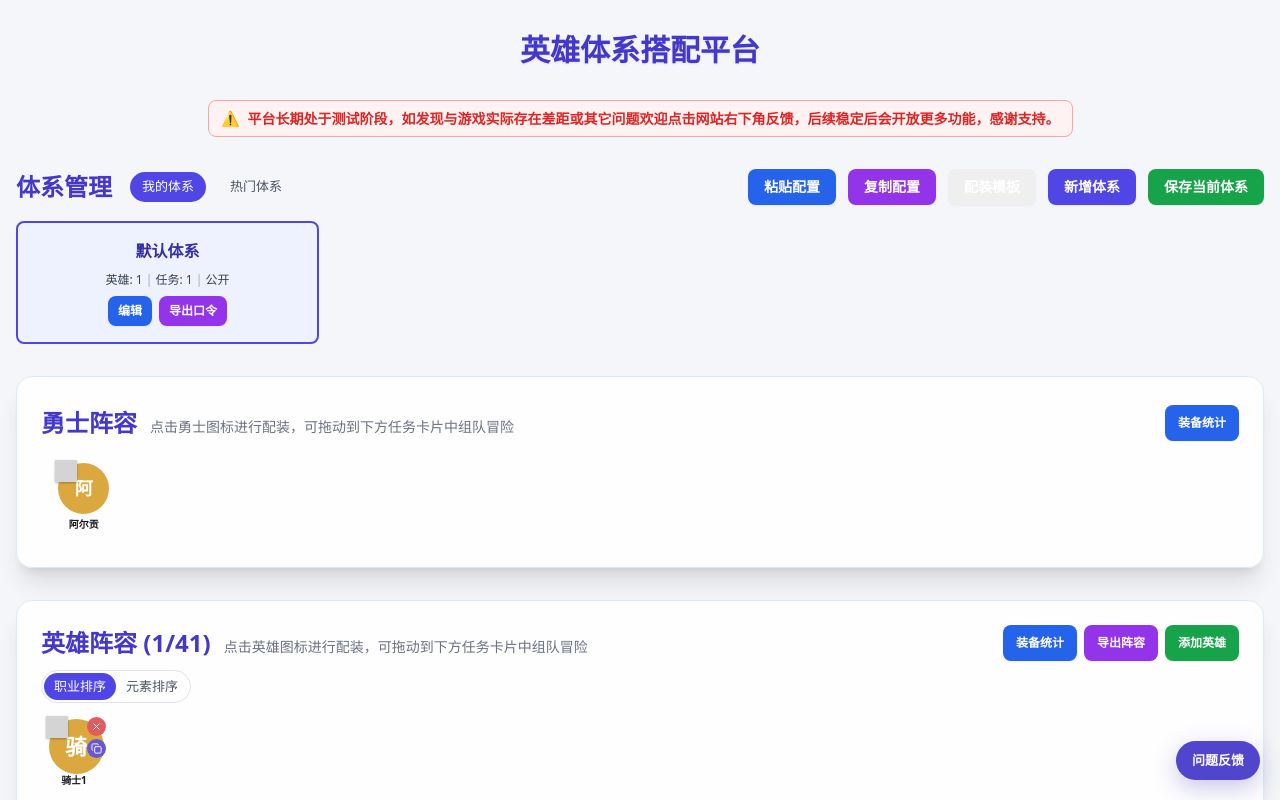
Test: matches online system-card deletion visibility and deletes the targeted card
Expected: the text "默认体系" is shown, [136,240,200,262]
Expected: the button "保存当前体系" is shown, [1148,168,1264,204]
Click the button "新增体系": (1092, 186) [1048,168,1136,204]
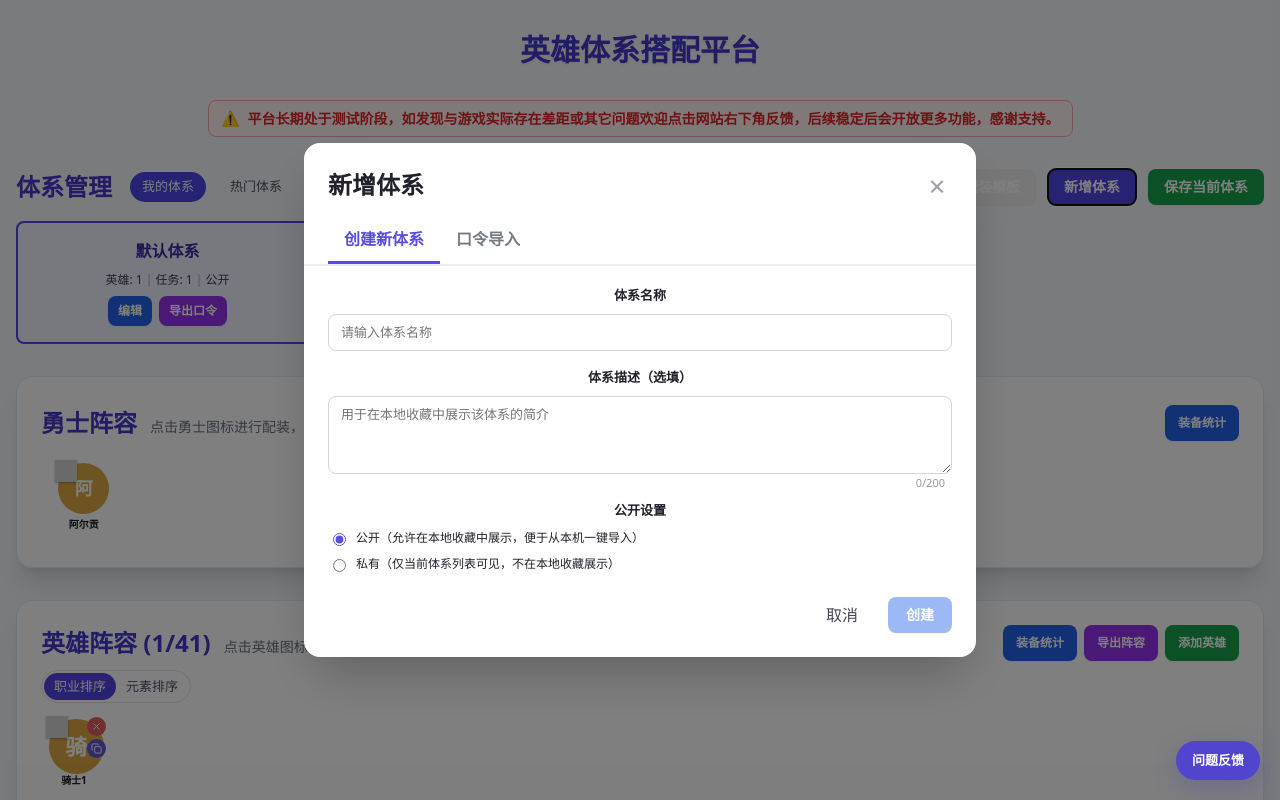
In the field named "新体系名称": (640, 332) [328,314,952,351], type "第二体系"
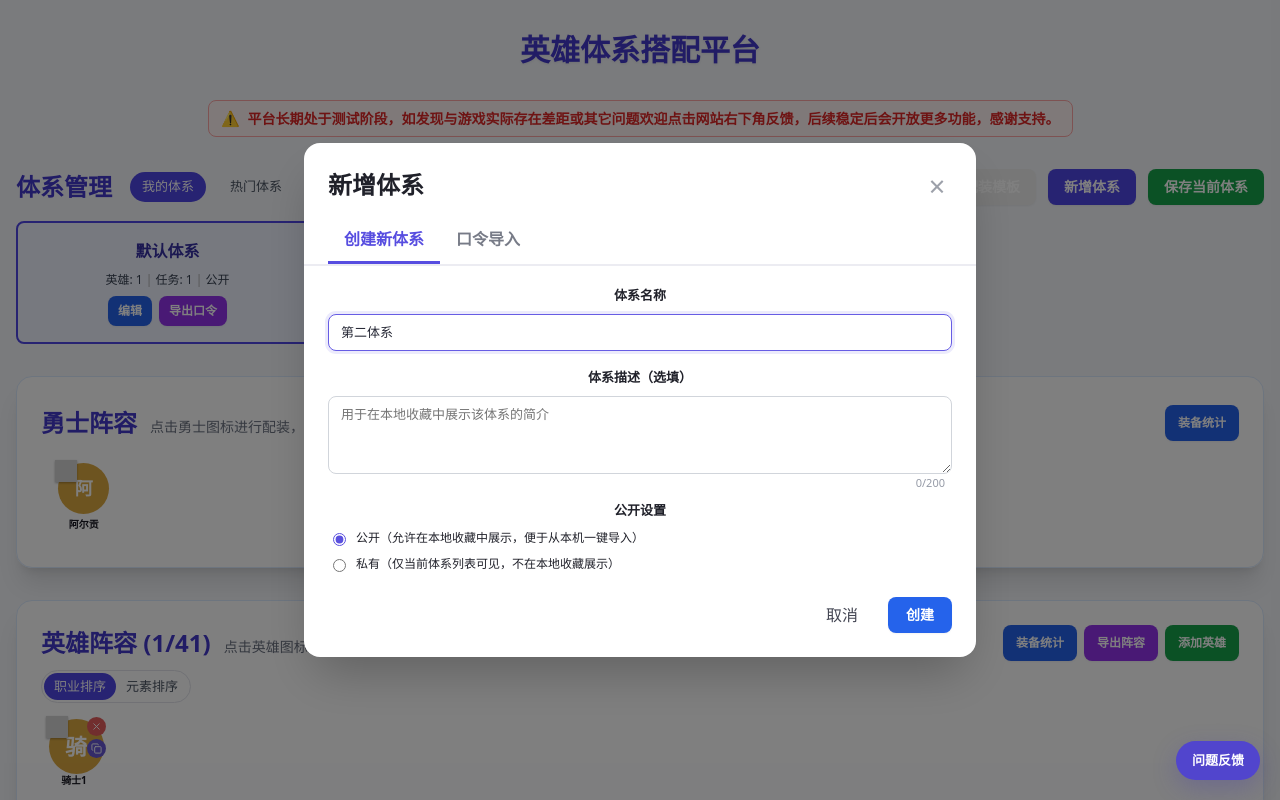
Click the button "创建": (920, 615) [888,597,952,633]
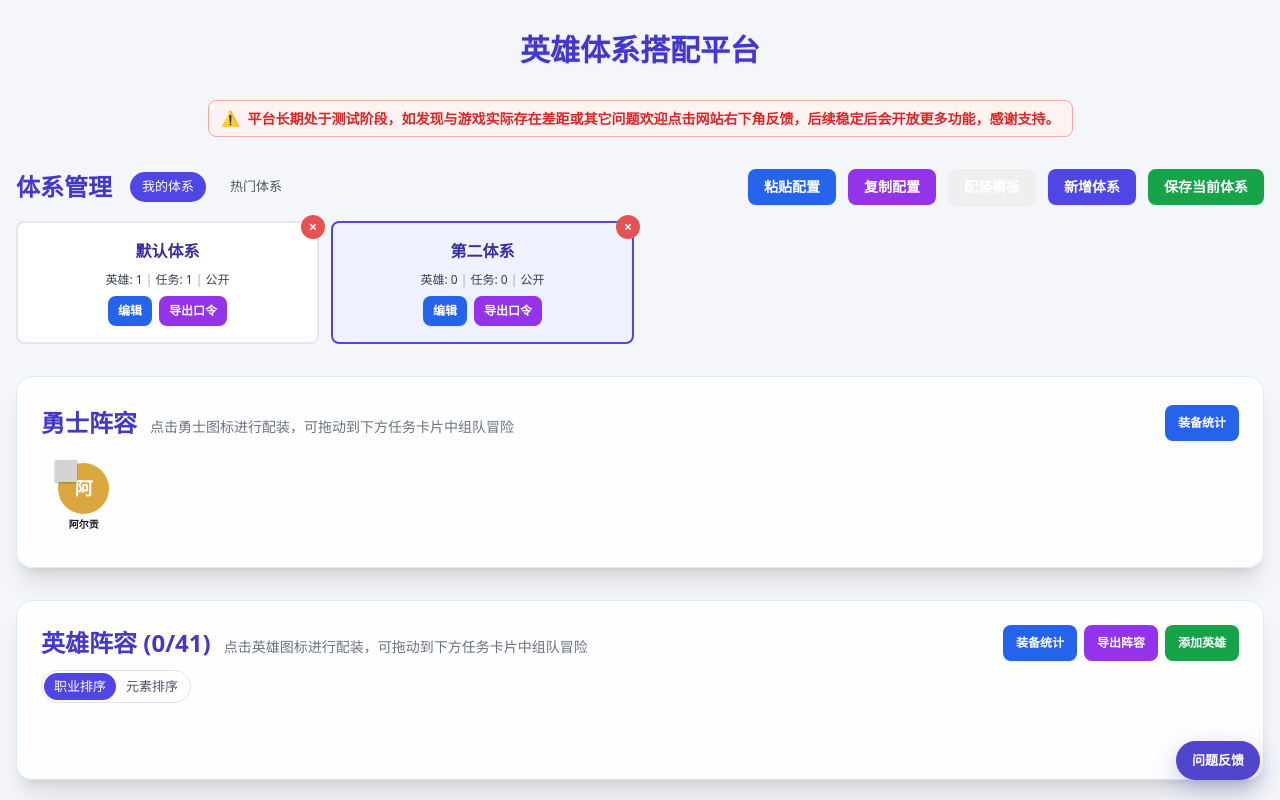
Now the number of buttons named "删除体系" is 2
Click the button named "删除体系 默认体系": (313, 226) [301,214,325,238]
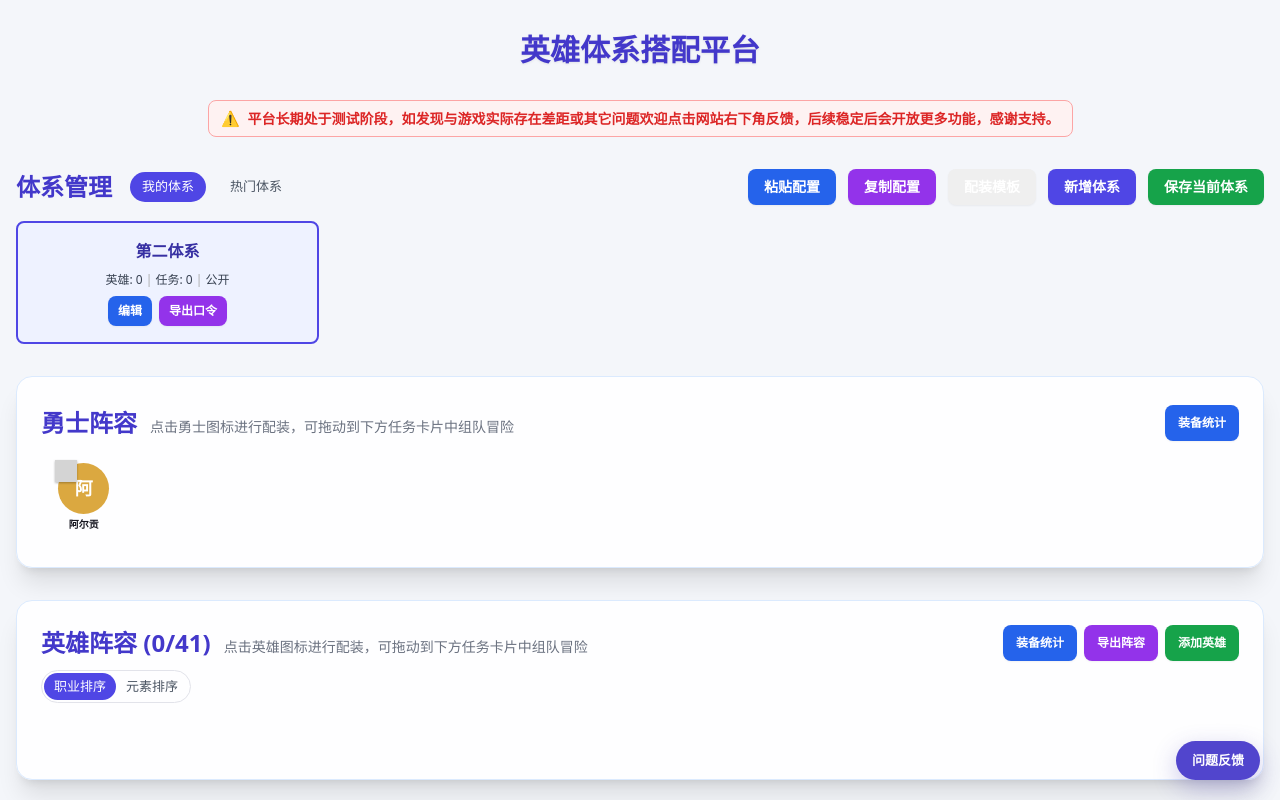
Now the text "第二体系" is shown, box [136,240,200,262]
Now the text "默认体系" is gone
Now the button "删除体系" is gone
